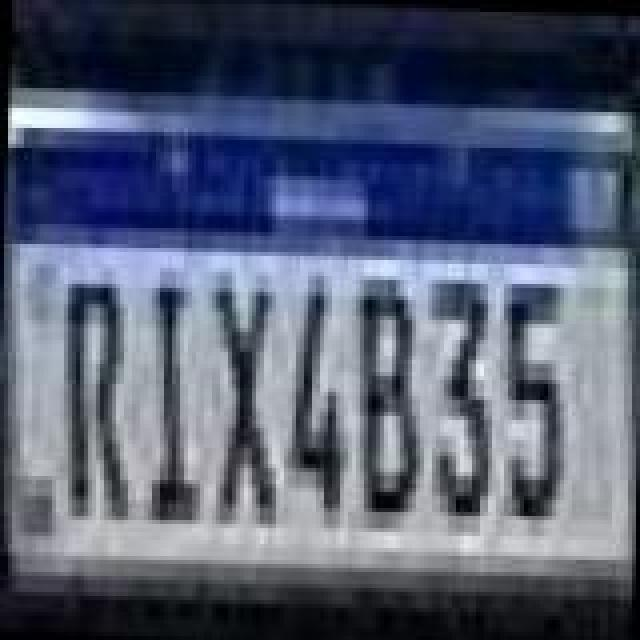3: (416, 266, 500, 522)
4: (284, 276, 352, 528)
5: (488, 272, 564, 528)
B: (346, 276, 418, 532)
I: (140, 278, 208, 530)
R: (52, 272, 136, 528)
X: (206, 272, 286, 528)
